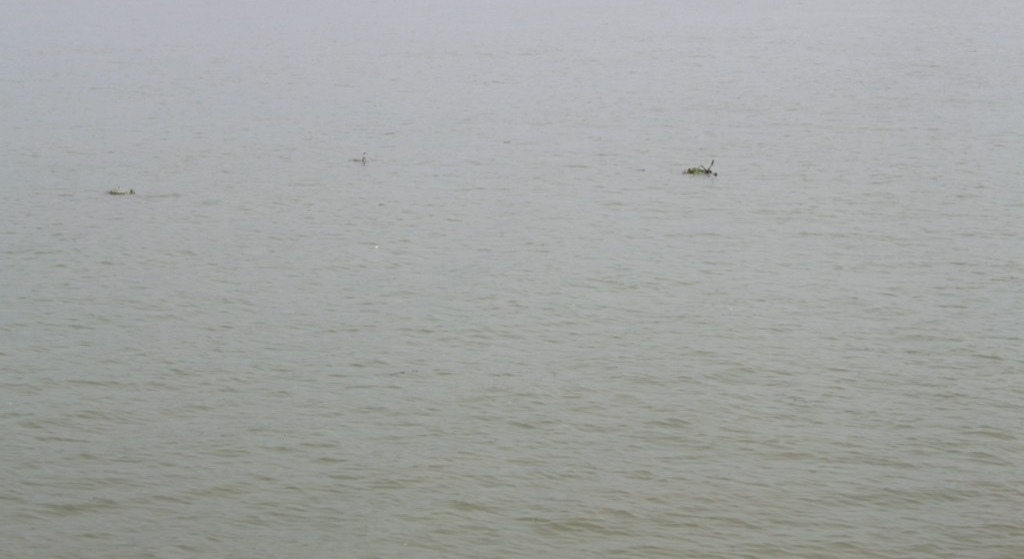organic: (98, 181, 148, 204), (679, 159, 724, 184), (341, 146, 377, 169)
plastic: (368, 241, 386, 255)
